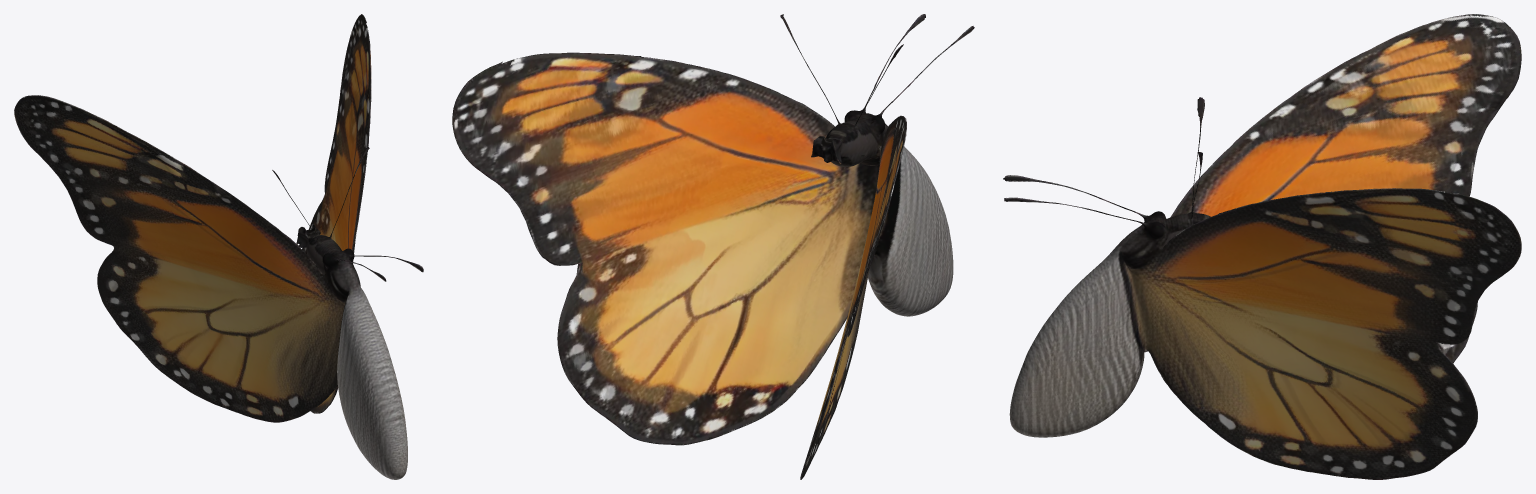
The model's file is butterfly_monarch.glb.
3 renders of one model, left to right at view 1: azimuth 30°, elevation 25°; view 2: azimuth 150°, elevation 25°; view 3: azimuth 270°, elevation 25°, orthographic. The views are drawn at different scales.
Visible parts, largest first — view 1: model; view 2: model; view 3: model.
Part boxes in pixels (bbox=[...]): model: bbox=[14, 14, 423, 479]; model: bbox=[452, 14, 974, 479]; model: bbox=[1003, 14, 1521, 479].
Size of the model in its own units: 1.67 by 1.41 by 1.89.
Materials: 1 (1 with a texture image).
